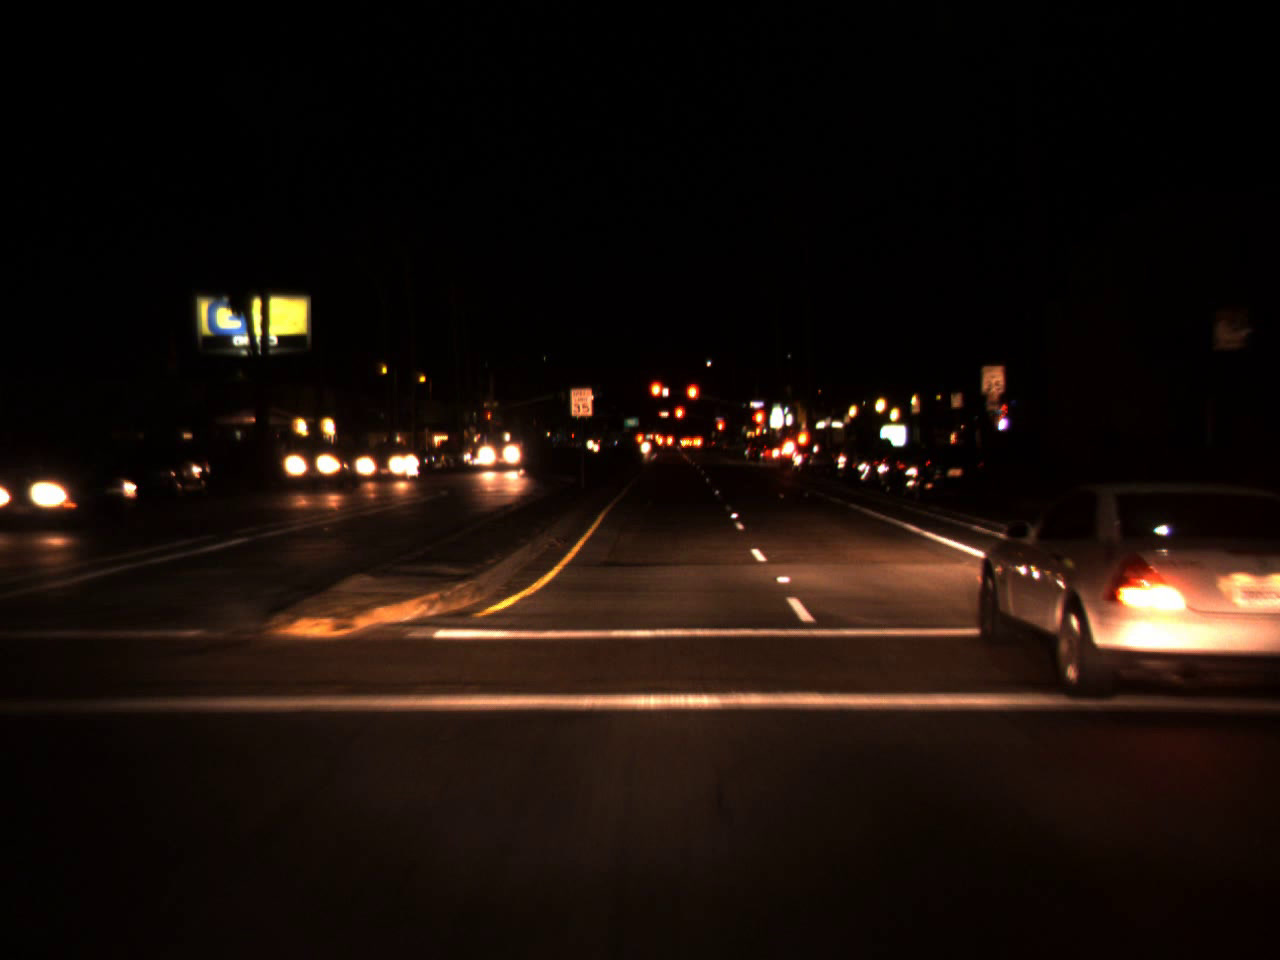stop: (647, 378, 666, 415), (749, 406, 767, 443), (684, 381, 702, 416), (672, 404, 685, 433), (716, 417, 725, 441), (486, 410, 492, 428)
